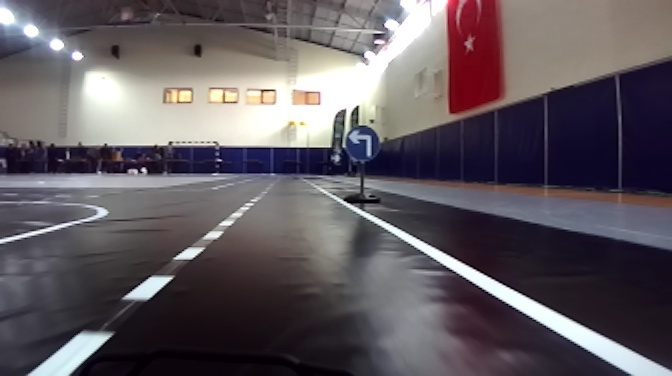sola_donus: (340, 125, 381, 164)
